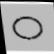no answer: (5, 12, 49, 45)
